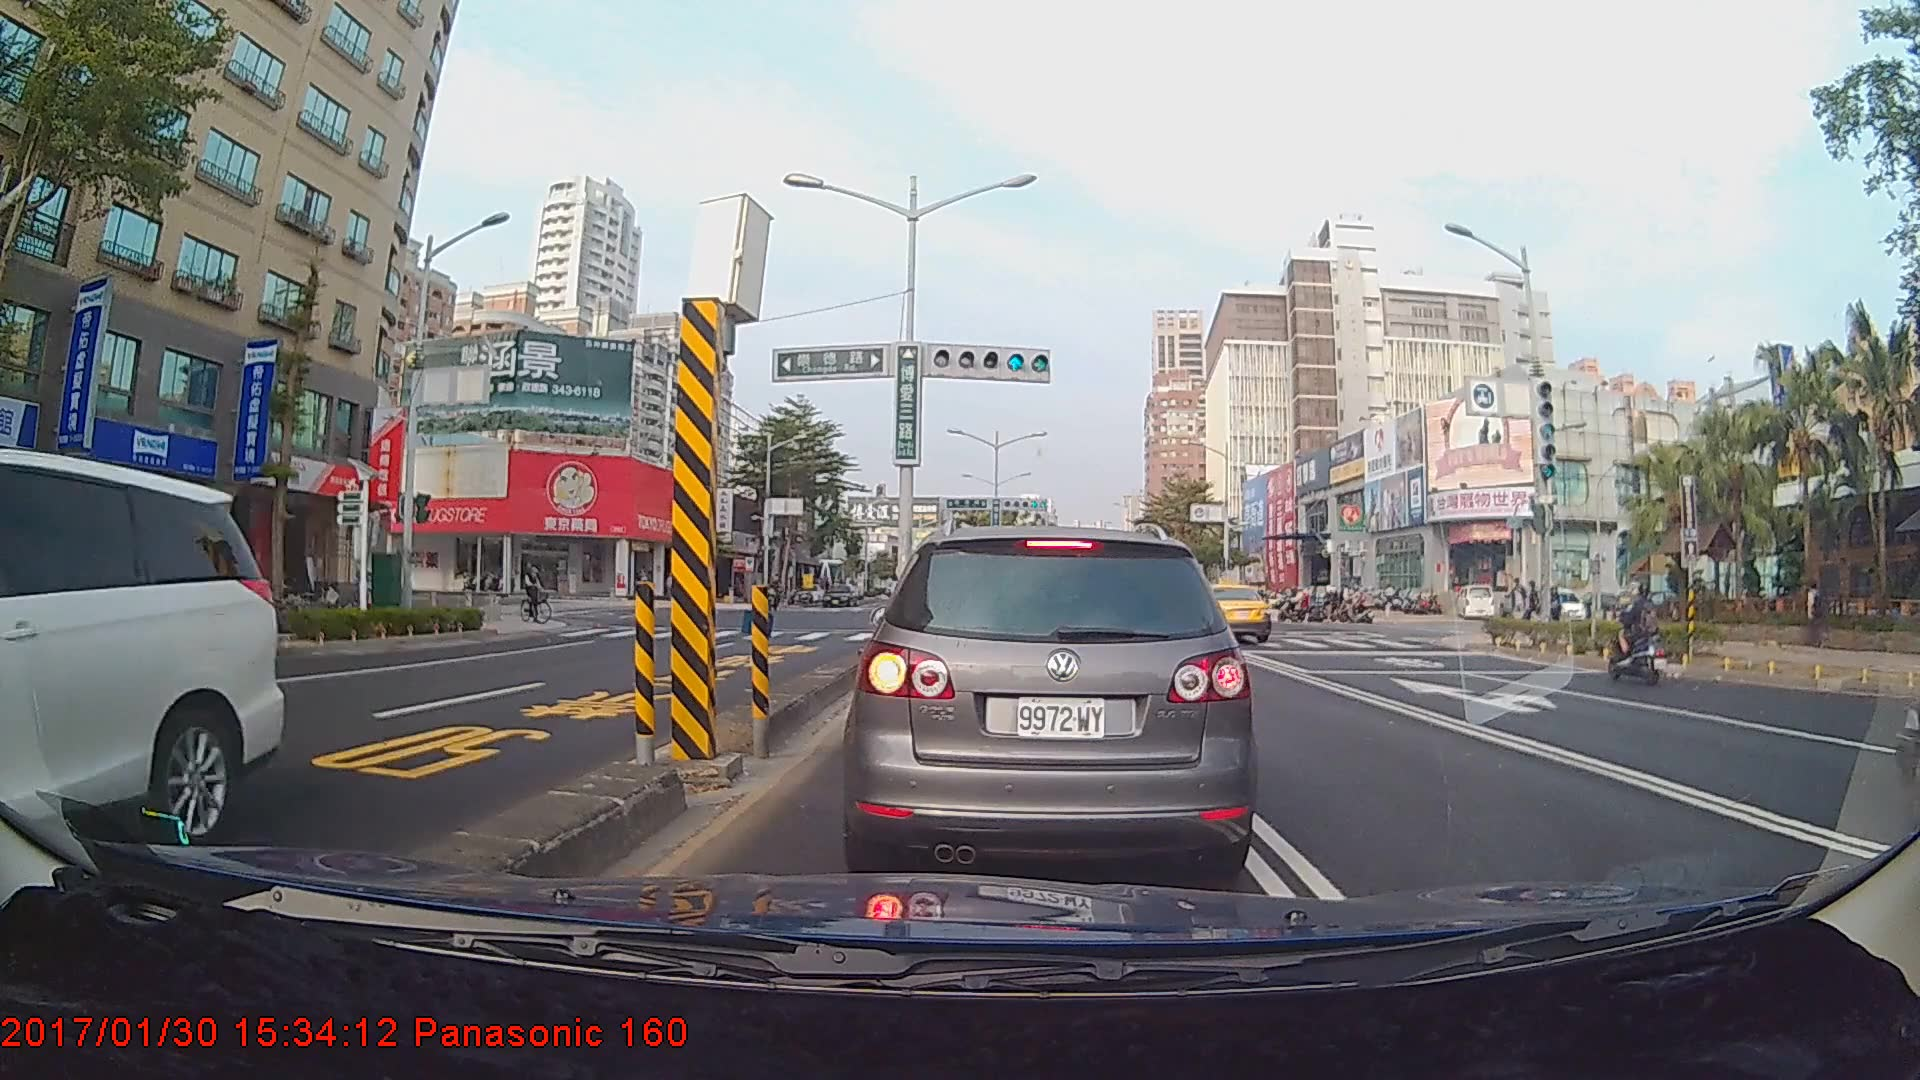pedestrian: (1803, 579, 1828, 647)
rider: (1605, 580, 1671, 688), (518, 559, 561, 629)
vehicle: (855, 522, 1254, 872), (0, 443, 284, 914), (1180, 581, 1273, 643)
